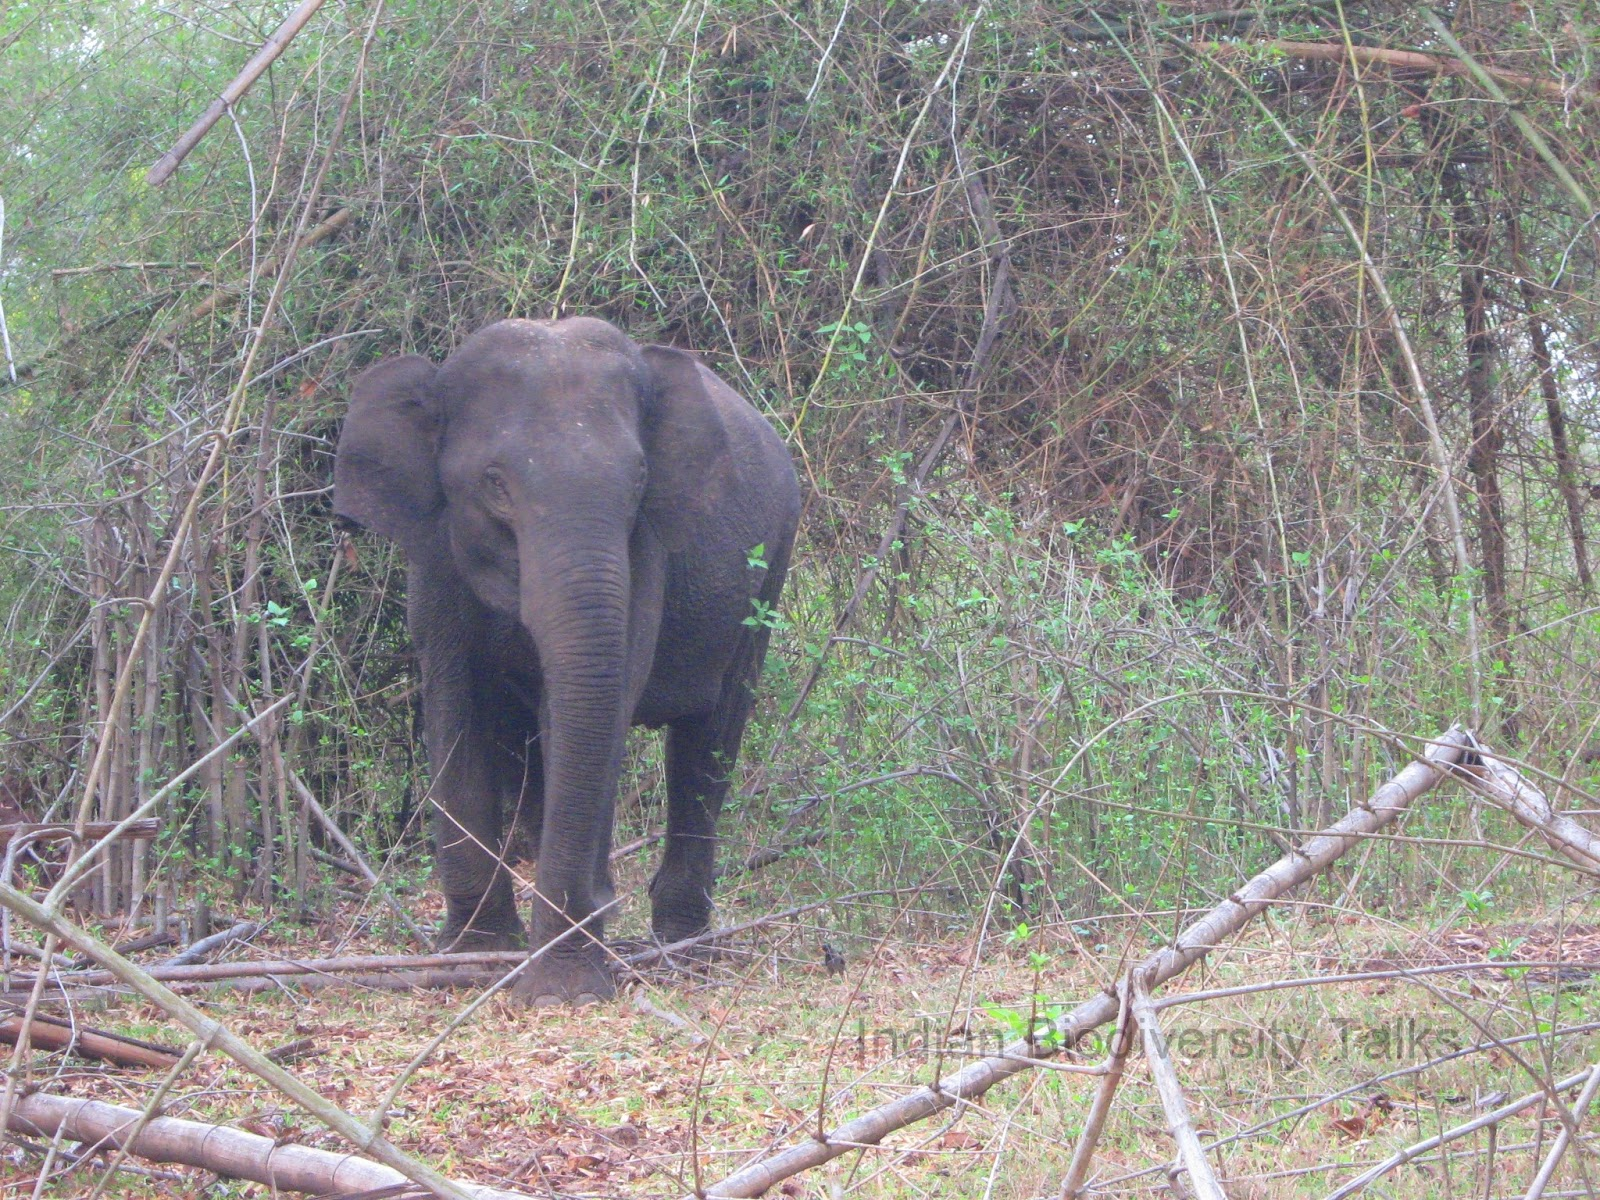Indian Elephant: (301, 292, 858, 1037)
